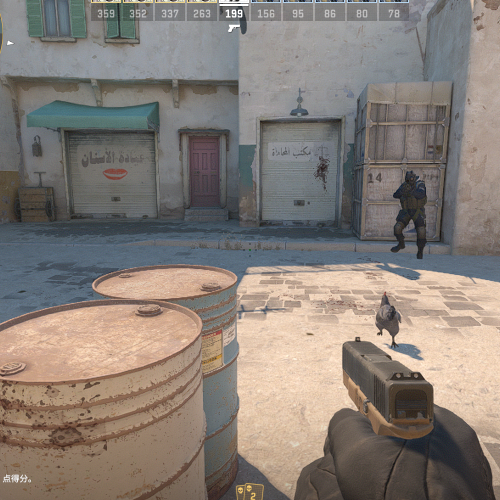chicken: (374, 290, 402, 351)
ct_body: (391, 168, 428, 258)
ct_head: (405, 170, 417, 185)
